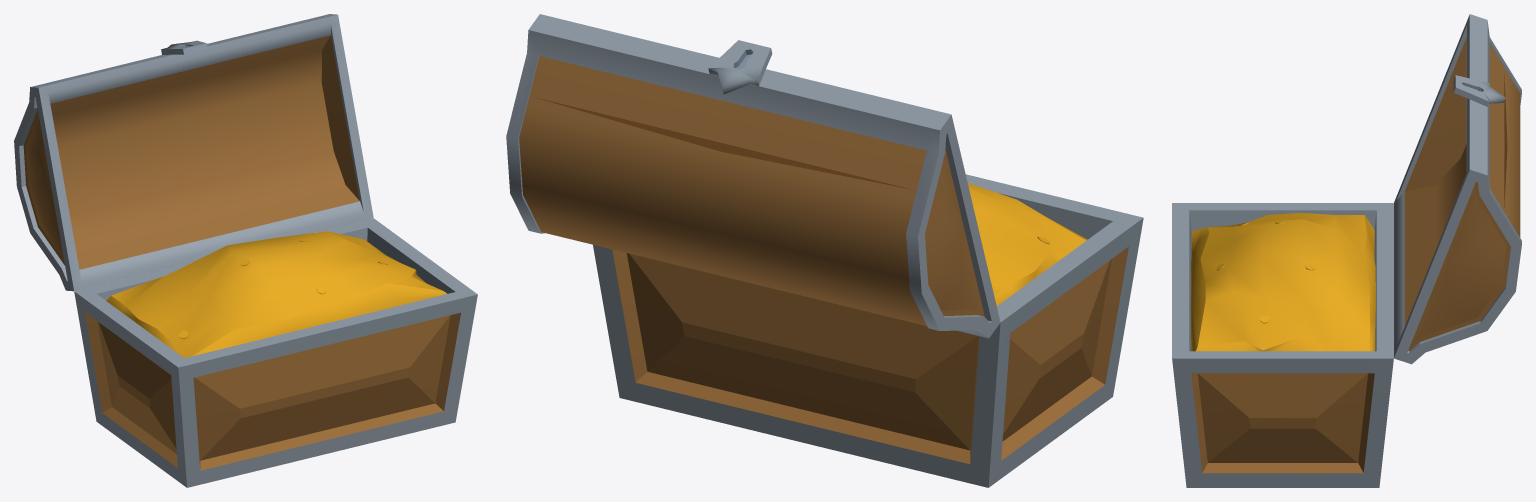
Rendered from treasure open1.FBX.
3 renders of one model, left to right at view 1: azimuth 30°, elevation 25°; view 2: azimuth 150°, elevation 25°; view 3: azimuth 270°, elevation 25°, orthographic. The views are drawn at different scales.
Visible parts, largest first — view 1: Box023; view 2: Box023; view 3: Box023.
Part boxes in pixels (bbox=[...]): Box023: bbox=[14, 14, 477, 487]; Box023: bbox=[506, 14, 1143, 487]; Box023: bbox=[1172, 14, 1521, 487].
Bounding box in the file's own units: 167 × 159 × 169.
